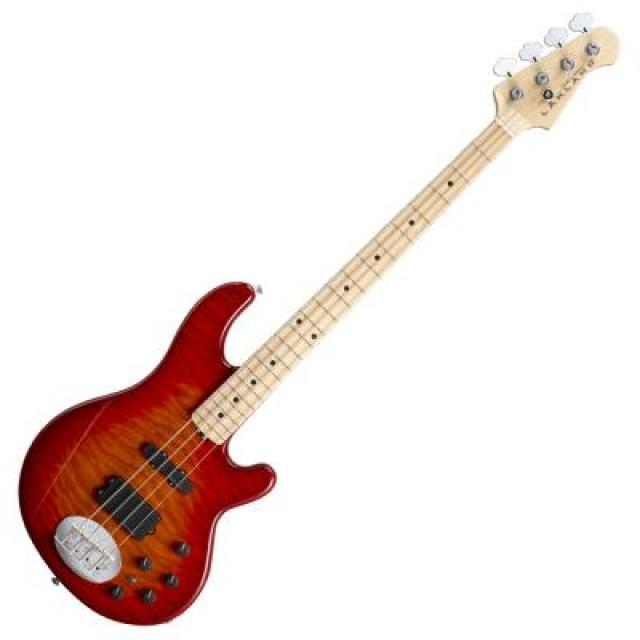bass: (19, 14, 617, 624)
